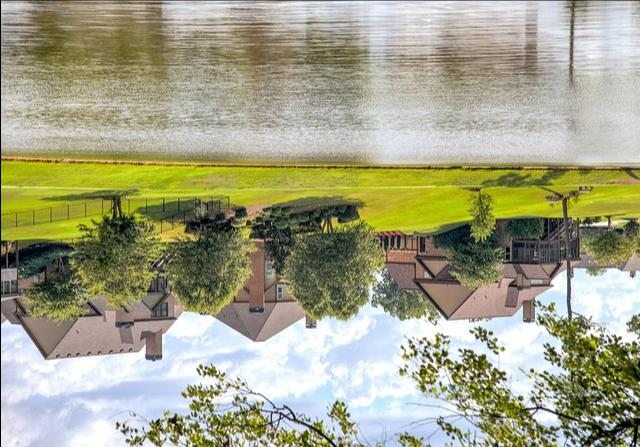Non_Gorille: (26, 136, 554, 414)
